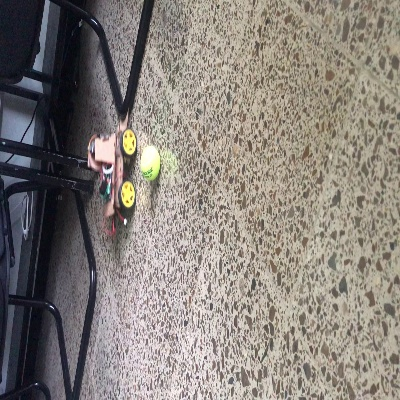Ball: (139, 146, 159, 181)
Robot: (86, 114, 136, 218)
